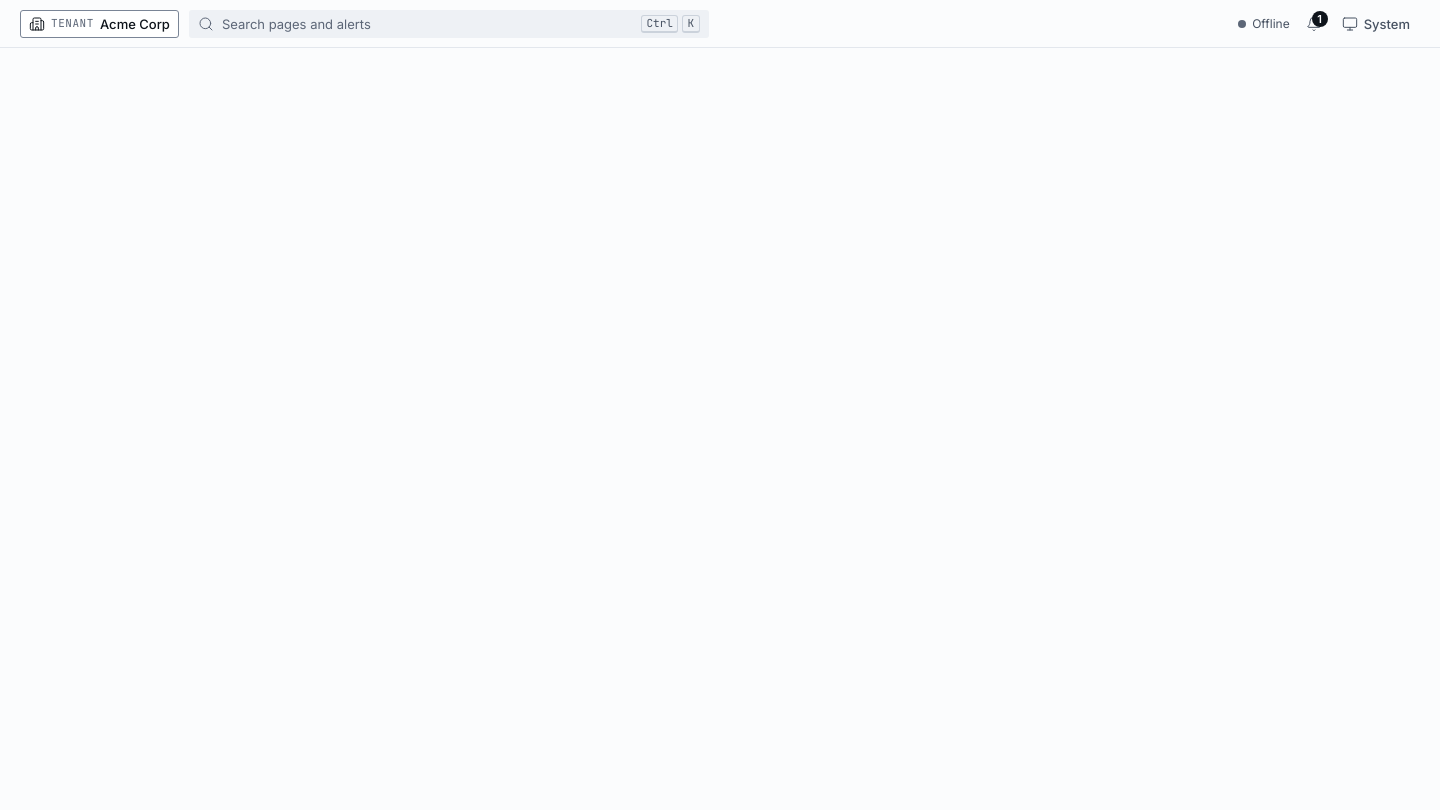
Test: Notifications › closes on Escape, returning focus to the bell, and on a press outside
This screenshot has width=1440, height=810.
Click the button named "Notifications: 1 needs an act" at (1314, 24), box [1300,10,1328,38]
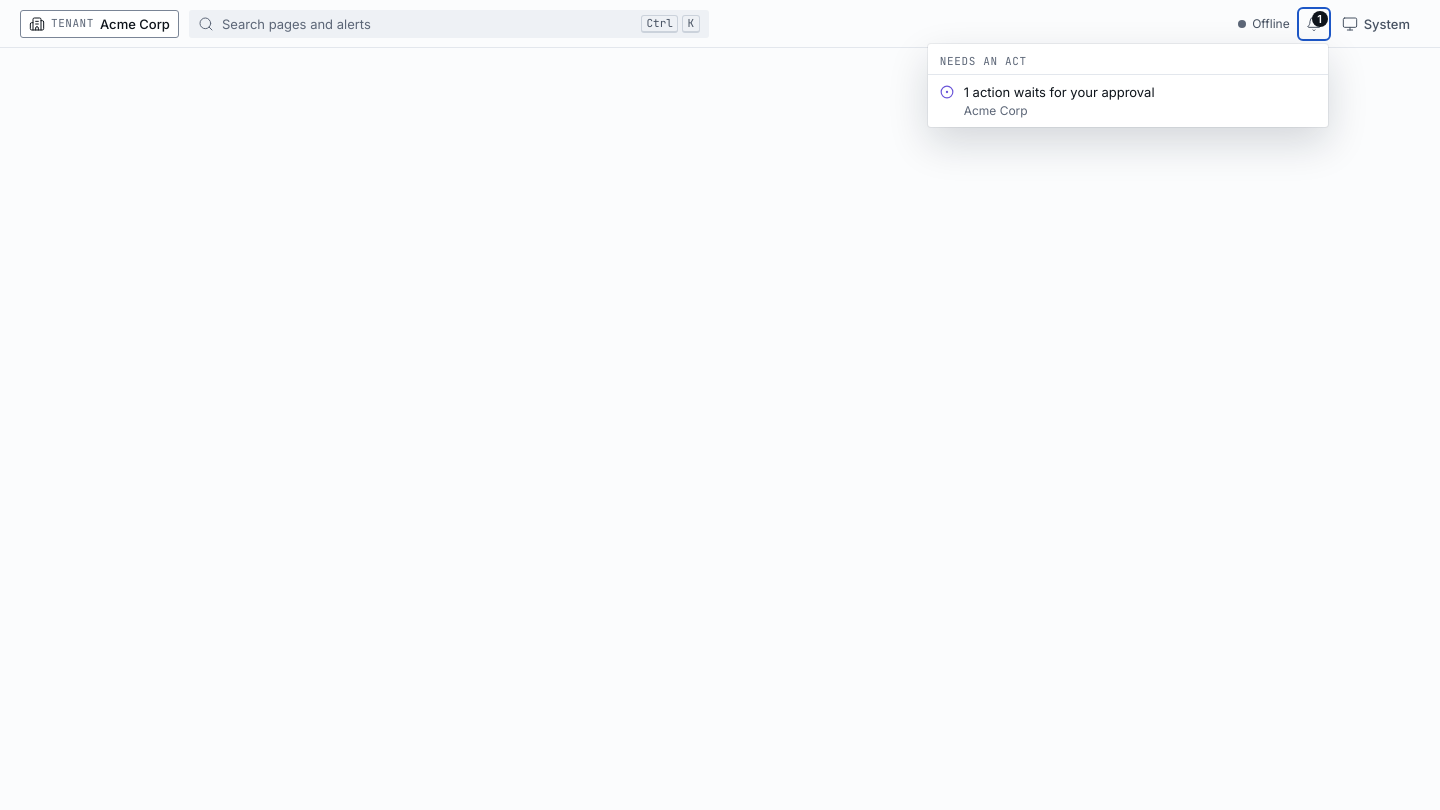
Result: the dialog named "Notifications" is shown at [928,44,1328,126]
Press Escape
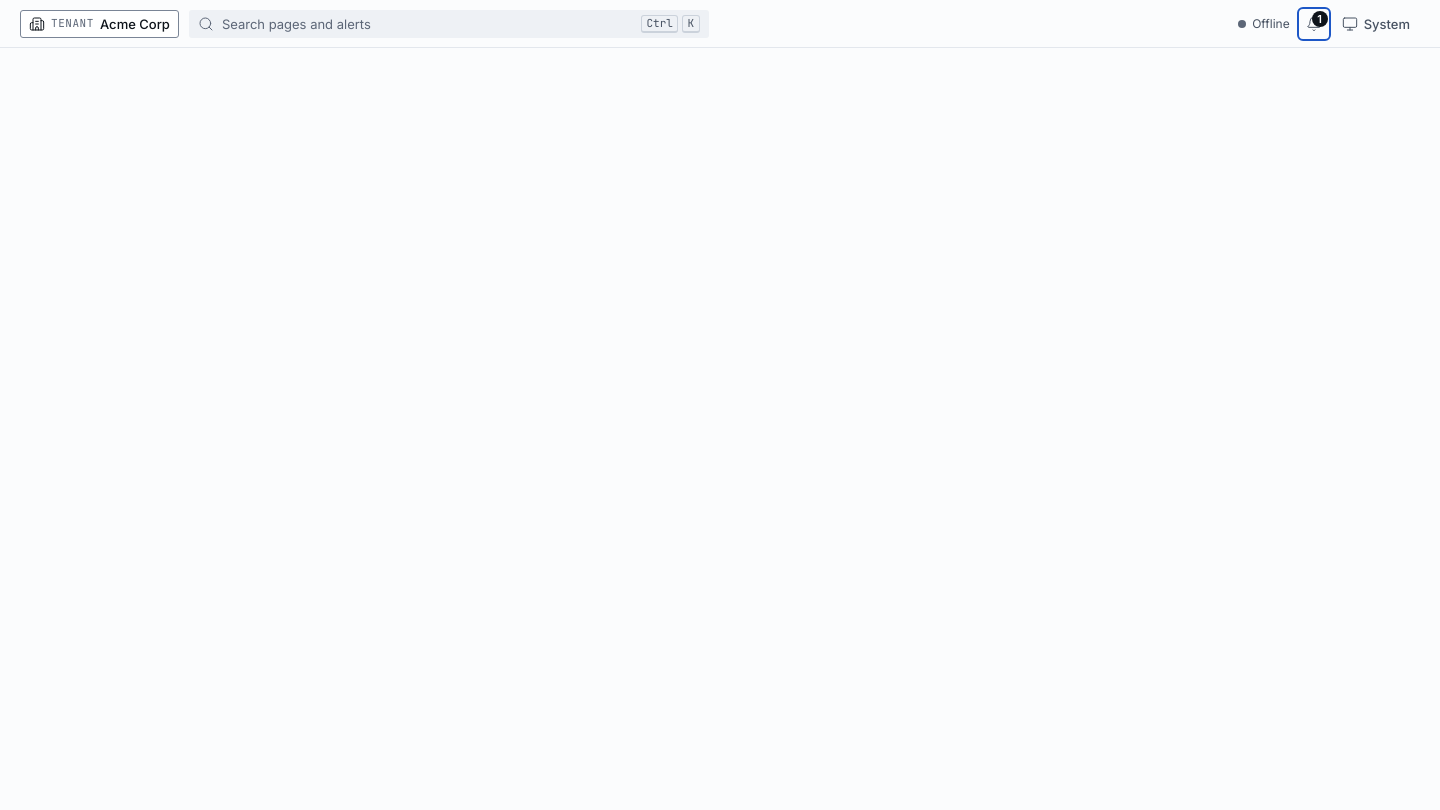
Result: the dialog is gone
Click the button named "Notifications: 1 needs an act" at (1314, 24), box [1300,10,1328,38]
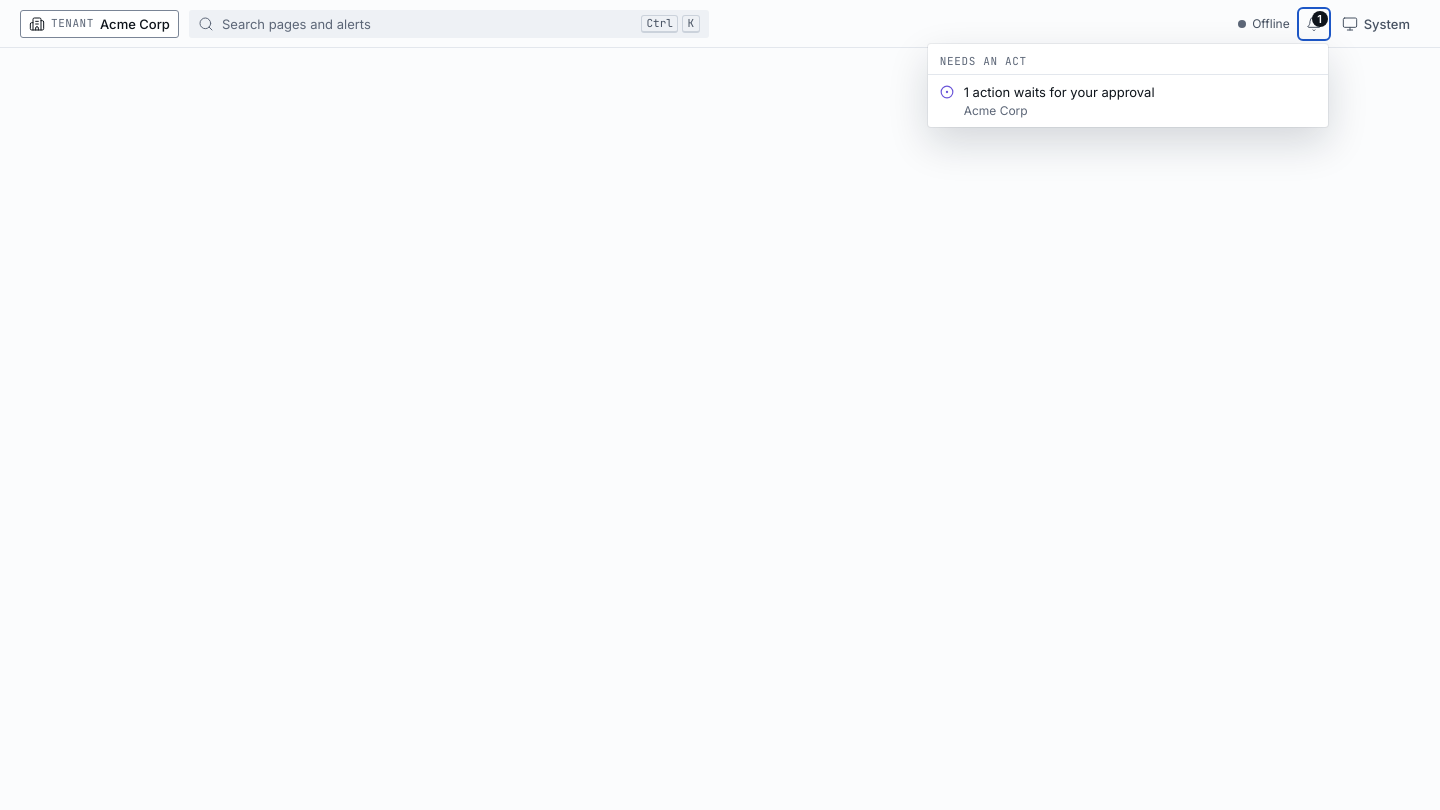
Press the mouse on the dialog named "Notifications" at (1128, 85), box [928,44,1328,126]
Result: the dialog named "Notifications" is shown at [928,44,1328,126]
Press the mouse on the element that starts with "Tenant" at (720, 405), box [0,0,1439,809]
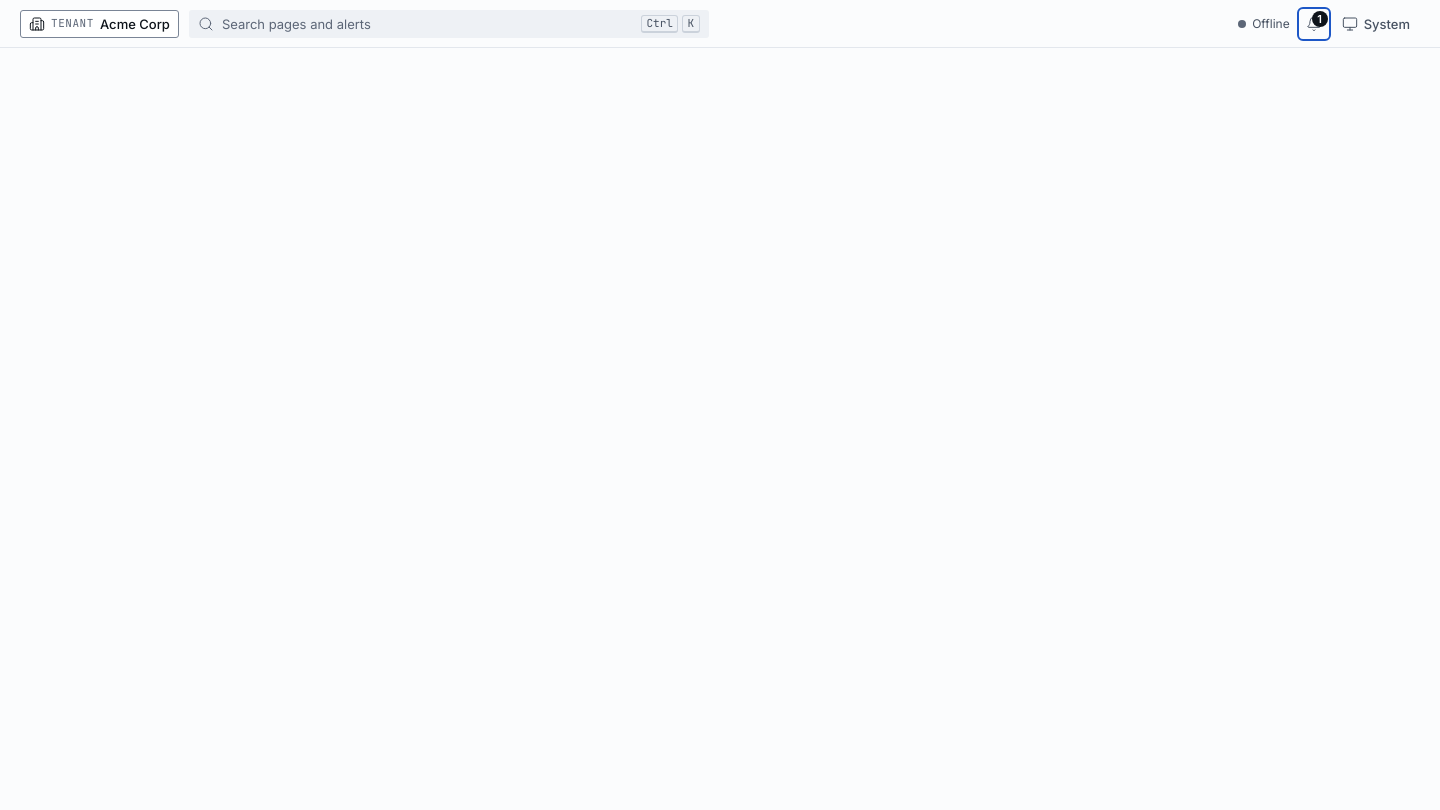
Result: the dialog is gone
